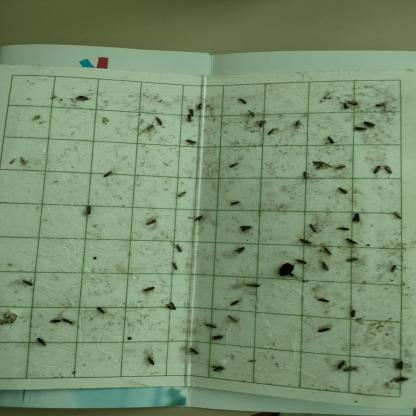prays_oleae: (244, 267, 269, 300), (18, 274, 37, 306), (310, 154, 333, 176), (69, 89, 90, 112), (137, 277, 159, 298), (45, 309, 63, 334), (83, 198, 100, 224), (228, 241, 249, 261), (369, 152, 383, 182), (225, 192, 244, 214), (340, 95, 362, 114), (235, 220, 258, 238), (334, 217, 352, 240), (387, 374, 411, 391), (316, 318, 336, 338), (340, 362, 362, 380), (100, 160, 116, 184), (226, 290, 242, 314), (321, 126, 337, 150), (320, 240, 335, 265), (368, 98, 390, 115), (335, 152, 352, 174), (336, 179, 350, 205), (344, 253, 366, 269), (164, 295, 180, 317), (182, 344, 201, 362), (142, 351, 158, 372), (59, 309, 75, 330), (209, 361, 225, 382), (229, 156, 245, 177), (308, 211, 321, 236), (192, 212, 208, 232), (93, 304, 113, 320), (289, 115, 304, 136), (174, 184, 190, 203), (208, 332, 228, 347), (345, 235, 362, 252), (33, 336, 49, 354), (236, 87, 249, 109), (168, 258, 182, 278), (182, 137, 199, 153), (225, 314, 242, 330), (360, 116, 378, 131), (388, 208, 406, 223), (294, 255, 313, 269), (144, 214, 160, 230), (203, 319, 219, 335), (262, 125, 278, 141), (351, 121, 368, 136), (299, 231, 314, 248), (172, 235, 184, 256), (253, 116, 268, 132), (350, 206, 362, 226), (153, 112, 166, 130), (334, 359, 345, 379), (381, 163, 396, 177), (316, 297, 332, 310), (318, 259, 332, 273), (243, 105, 258, 118)
